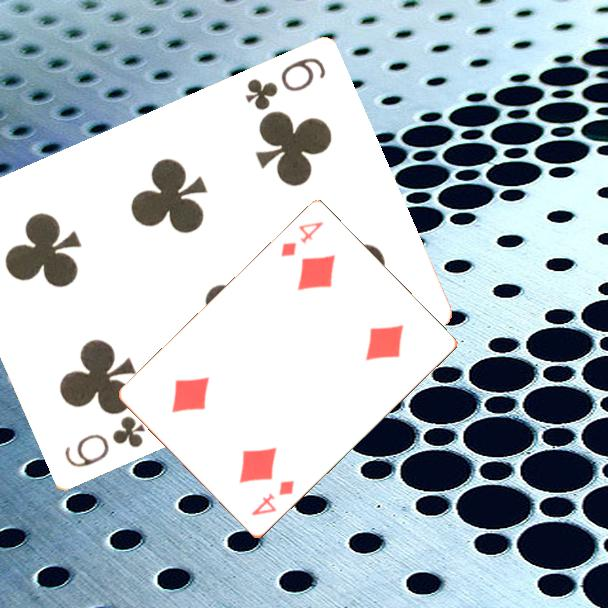c06: (241, 54, 329, 114), (60, 412, 148, 471)
d04: (277, 218, 327, 261), (248, 477, 297, 519)
